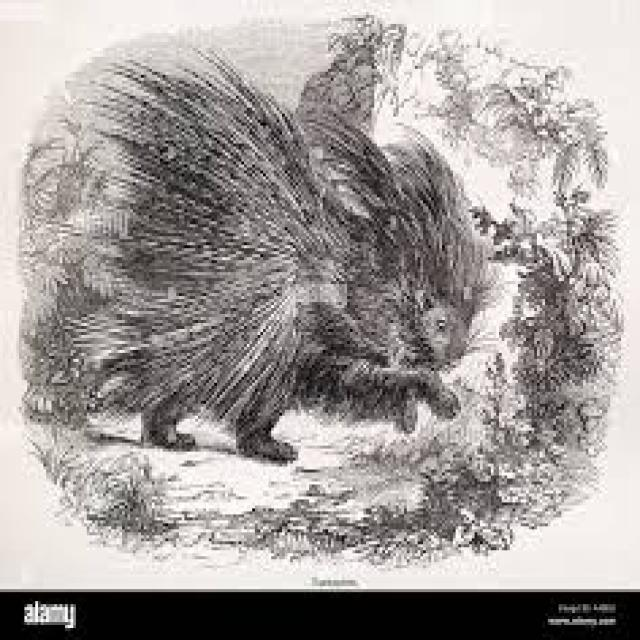Porcupine: (56, 32, 481, 440)
